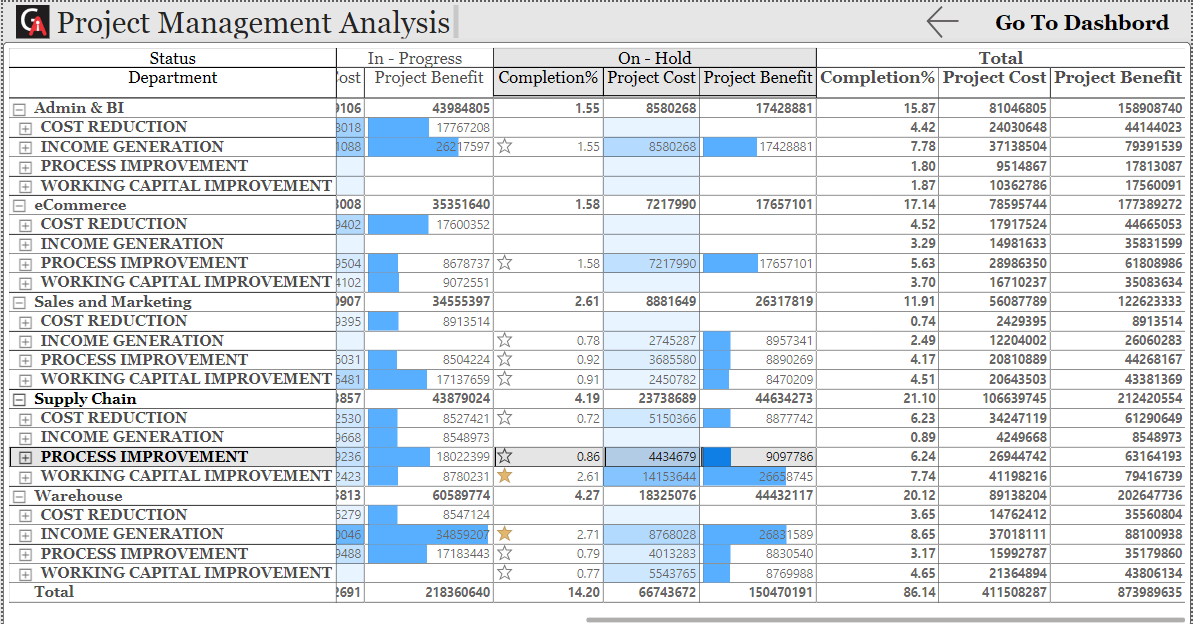

The dashboard page shown, as its layout file describes it:
{"tool":"powerbi","page":{"name":"Table View","canvas":[1900,1000],"ordinal":1},"visuals":[{"type":"image","box":[16.9,0,63.6,63.6],"z":0},{"type":"textbox","box":[80.7,0,654,63.6],"z":1000},{"type":"actionButton","box":[1471.4,0,398.2,64.3],"z":2000},{"type":"pivotTable","fields":{"Rows":["Department.Department","Project Type.Project Type","Project.Project Name"],"Columns":["Project.Status"],"Values":["Sum(Project.Completion%)","Sum(Project. Project Cost )","Sum(Project. Project Benefit )"]},"box":[0,63.5,1900,936.5],"z":3000}]}

Visuals, with their boxes in screenshot pixels (x1, y1, x2, y2), scaled from the page's 1900x1000 canvas onto the 1193x624 screenshot:
image: (left=11, top=0, right=51, bottom=40)
textbox: (left=51, top=0, right=461, bottom=40)
actionButton: (left=924, top=0, right=1174, bottom=40)
pivotTable - Department.Department x Project Type.Project Type: (left=0, top=40, right=1192, bottom=623)
